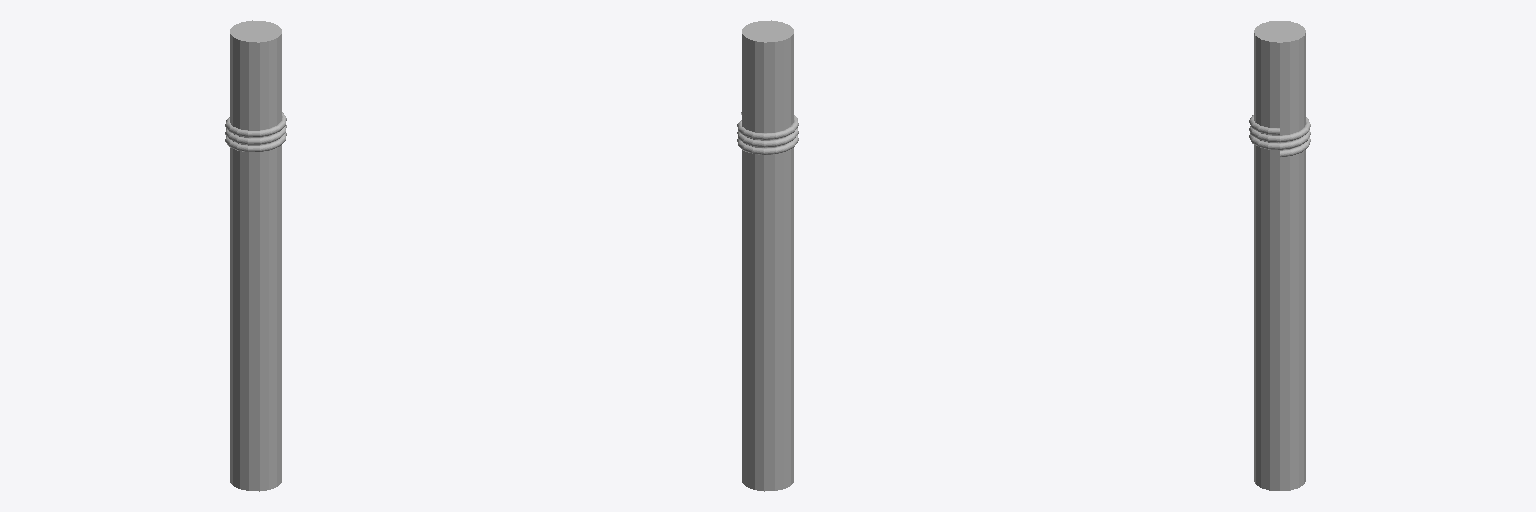
URDF robot description (my_specimen):
<?xml version="1.0" ?>
<robot name="my_specimen">
  <material name="gold">
    <color rgba="1.0 0.85 0.0 1.0"/>
  </material>
  <material name="silver">
    <color rgba="0.75 0.75 0.75 1.0"/>
  </material>
  <link name="base_link">
    <visual>
      <geometry>
        <mesh filename="specimen.stl"/>
      </geometry>
      <material name="silver"/>
    </visual>
    <collision>
      <geometry>
        <mesh filename="specimen.stl"/>
      </geometry>
    </collision>
    <inertial>
      <mass value="0.1"/>
      <origin xyz="0 0 0" rpy="0 0 0"/>
      <inertia ixx="0.01" ixy="0.0" ixz="0.0" iyy="0.01" iyz="0.0" izz="0.01"/>
    </inertial>
  </link>
</robot>

--- Facts derived from the render (not from the file) ---
The picture shows the robot from 3 angles, left to right: view 1: azimuth 30°, elevation 25°; view 2: azimuth 150°, elevation 25°; view 3: azimuth 270°, elevation 25°; orthographic projection.
Model my_specimen with 1 links and 0 joints (none), rooted at base_link, posed every joint at zero.
Visible links, largest first — view 1: base_link; view 2: base_link; view 3: base_link.
Link boxes in pixels (x1=…): base_link: x1=225, y1=20, x2=286, y2=491; base_link: x1=737, y1=20, x2=798, y2=491; base_link: x1=1249, y1=21, x2=1310, y2=490.
Size in the robot's own frame: 0.0063 by 0.0063 by 0.05 metres.
1 mesh visuals loaded from 1 distinct referenced files (1 binary STL).